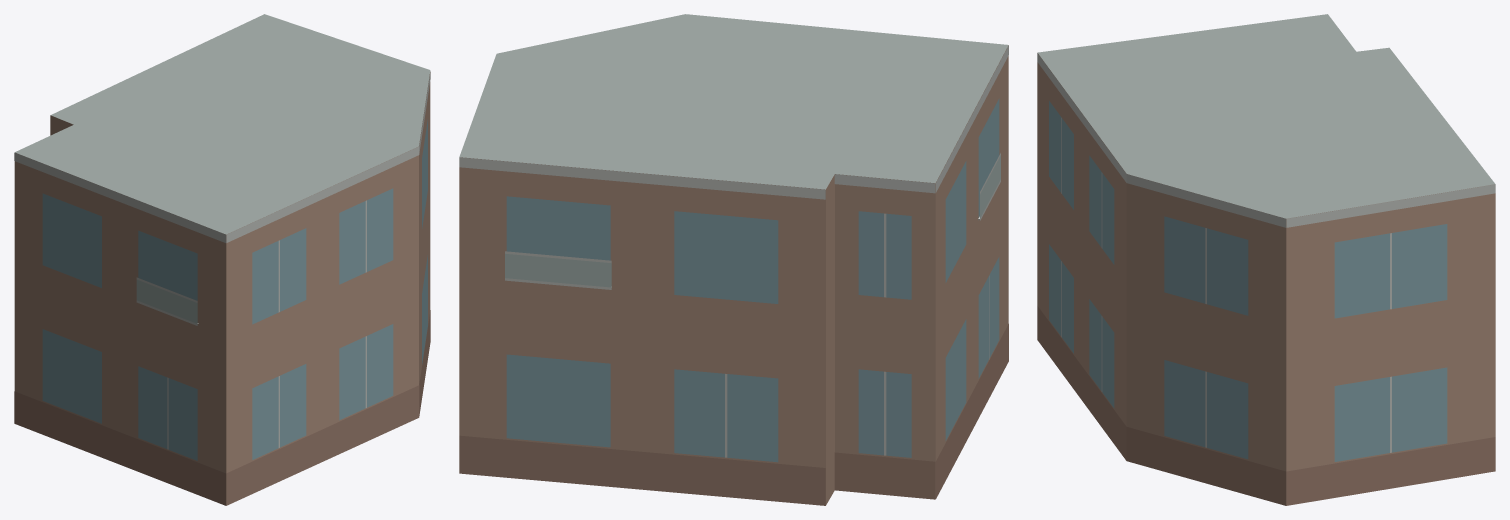
The model's file is survey-upis-32664954.glb.
3 renders of one model, left to right at view 1: azimuth 30°, elevation 25°; view 2: azimuth 150°, elevation 25°; view 3: azimuth 270°, elevation 25°, orthographic. The views are drawn at different scales.
Parts seen in each view (by area): view 1: survey-upis-32664954.tmp; view 2: survey-upis-32664954.tmp; view 3: survey-upis-32664954.tmp.
Boxes of the visible parts, left/top/right/bottom form: survey-upis-32664954.tmp: left=14, top=14, right=430, bottom=505; survey-upis-32664954.tmp: left=459, top=14, right=1008, bottom=505; survey-upis-32664954.tmp: left=1037, top=14, right=1495, bottom=505.
Size of the model in its own units: 11.63 by 7.6 by 11.
